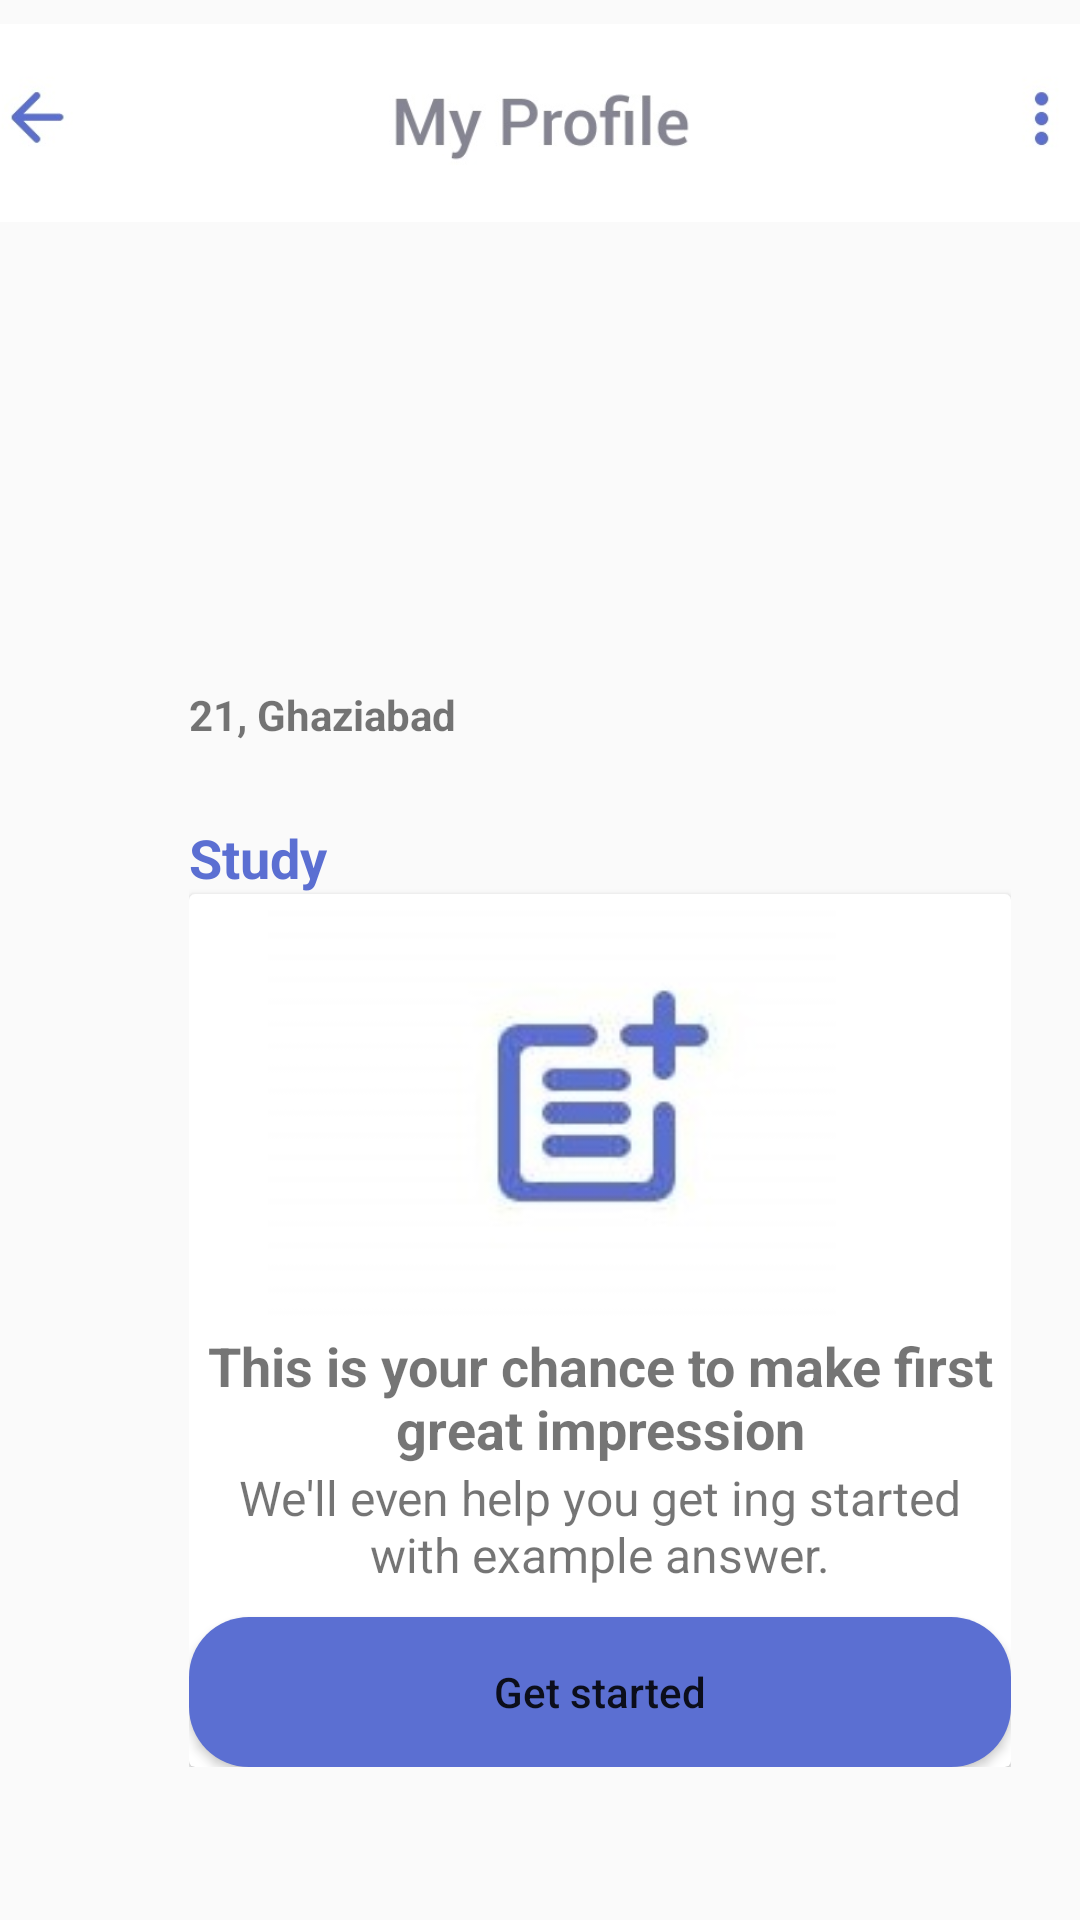

Icon click points for this 1080 × 1920 phone screenshot, format [x,y]:
document add: [603,1096]
